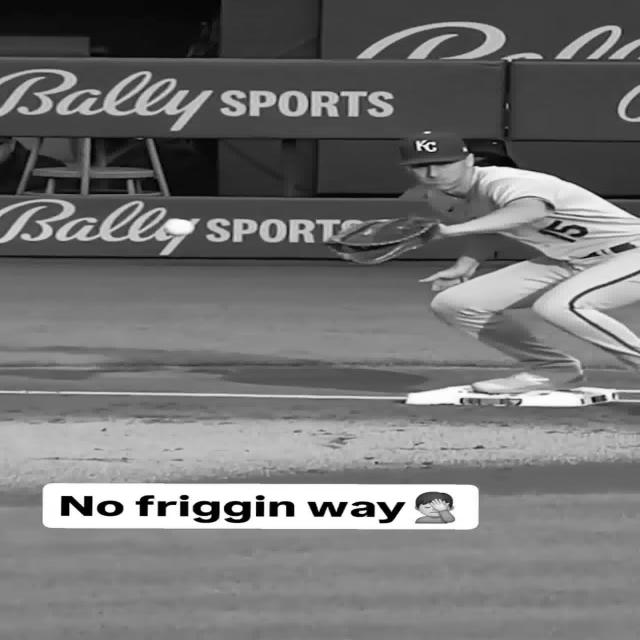base: (407, 385, 618, 408)
baseball: (162, 219, 196, 236)
baseball_glove: (325, 218, 440, 264)
shoe: (471, 368, 585, 394)
